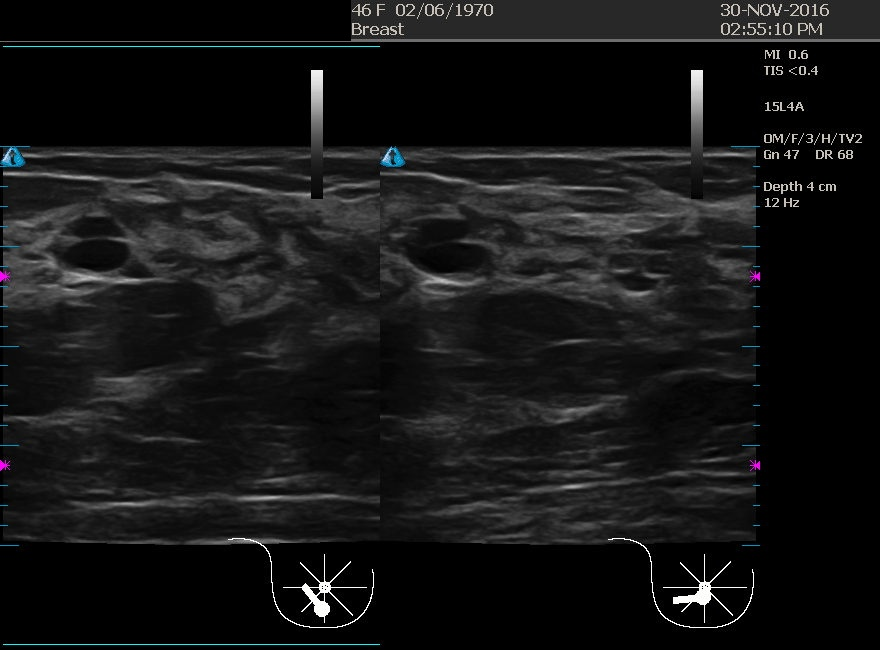BIRADS_2: (16, 170, 208, 362), (378, 170, 570, 362)
